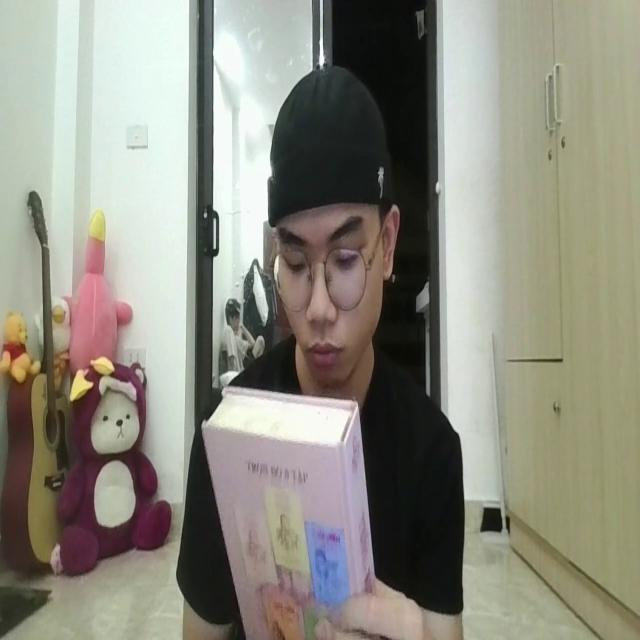book: (199, 366, 375, 640)
student: (182, 53, 461, 640)
